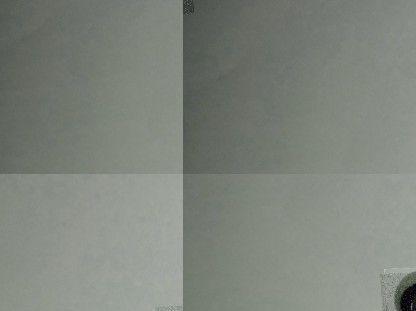ironball: (375, 275, 415, 311), (183, 0, 193, 14)
